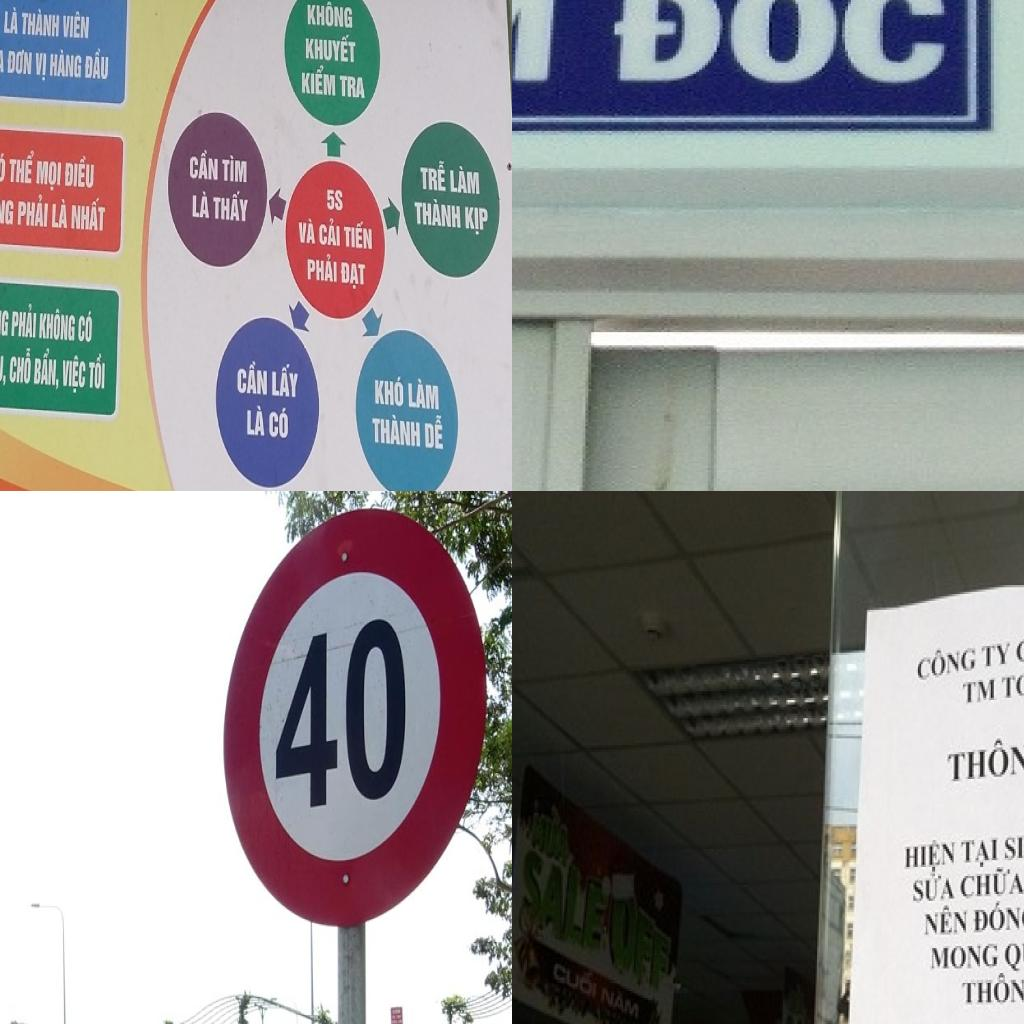text: (606, 0, 953, 91), (271, 608, 412, 820), (520, 840, 612, 955), (603, 885, 676, 1000), (942, 727, 1024, 788), (912, 639, 980, 687), (530, 802, 574, 869), (929, 937, 1002, 977), (958, 968, 1024, 1011), (902, 833, 958, 881), (552, 948, 601, 1002), (960, 862, 1024, 903), (970, 894, 1024, 937), (369, 411, 423, 450), (921, 901, 971, 941), (303, 31, 357, 68), (414, 194, 462, 232), (600, 980, 642, 1022), (910, 872, 960, 906), (960, 831, 1002, 871), (38, 303, 77, 346), (270, 359, 305, 404), (21, 2, 61, 40), (305, 0, 354, 31), (32, 344, 61, 396), (63, 148, 97, 192), (960, 673, 999, 711), (236, 355, 270, 398), (299, 64, 338, 101), (69, 198, 108, 234), (373, 372, 405, 415), (406, 377, 442, 415), (211, 188, 250, 223), (16, 192, 49, 232), (59, 352, 88, 397), (449, 158, 482, 196), (416, 158, 448, 196), (48, 46, 82, 81), (980, 637, 1014, 671), (307, 251, 338, 288), (8, 344, 34, 388), (10, 301, 38, 341), (221, 146, 249, 186), (8, 148, 36, 187), (35, 155, 63, 194), (188, 148, 219, 183), (62, 8, 92, 42), (344, 218, 374, 252), (1000, 661, 1024, 702), (87, 348, 107, 397), (462, 205, 490, 240), (268, 403, 292, 443), (83, 48, 111, 82), (340, 256, 367, 291), (1003, 822, 1024, 865), (1004, 932, 1024, 977), (338, 72, 368, 100), (6, 45, 33, 76), (245, 403, 265, 443), (318, 216, 341, 250), (76, 304, 95, 344), (190, 188, 212, 222), (0, 188, 17, 228), (50, 198, 70, 232), (2, 2, 20, 39), (297, 215, 317, 246), (326, 186, 344, 217), (34, 51, 49, 85), (0, 301, 11, 340), (0, 344, 7, 389), (1016, 632, 1024, 666), (0, 150, 7, 184)
